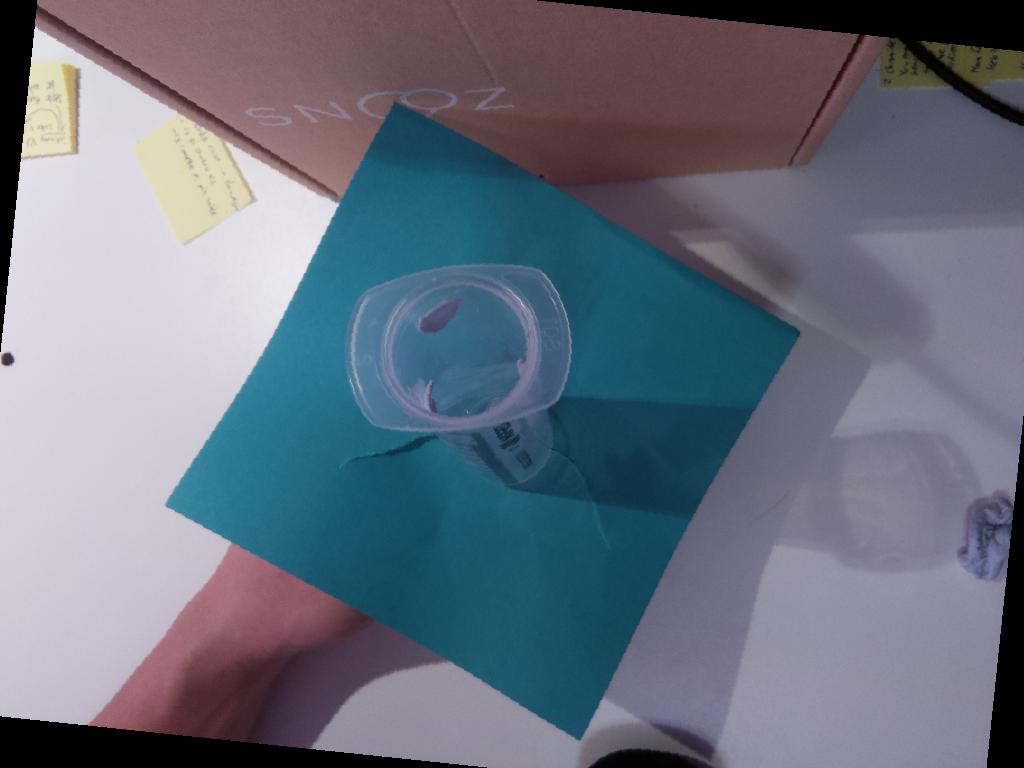dirty: (344, 262, 572, 429)
